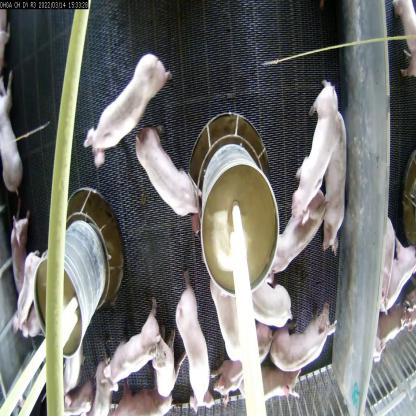Pig: (80, 43, 170, 179), (282, 82, 334, 229), (174, 286, 222, 414), (13, 246, 66, 359), (206, 272, 270, 360), (146, 119, 200, 221), (274, 183, 325, 284), (230, 255, 300, 328), (312, 121, 348, 258), (104, 312, 160, 398), (275, 307, 336, 384), (0, 89, 32, 206), (151, 339, 176, 396), (88, 369, 115, 416)
